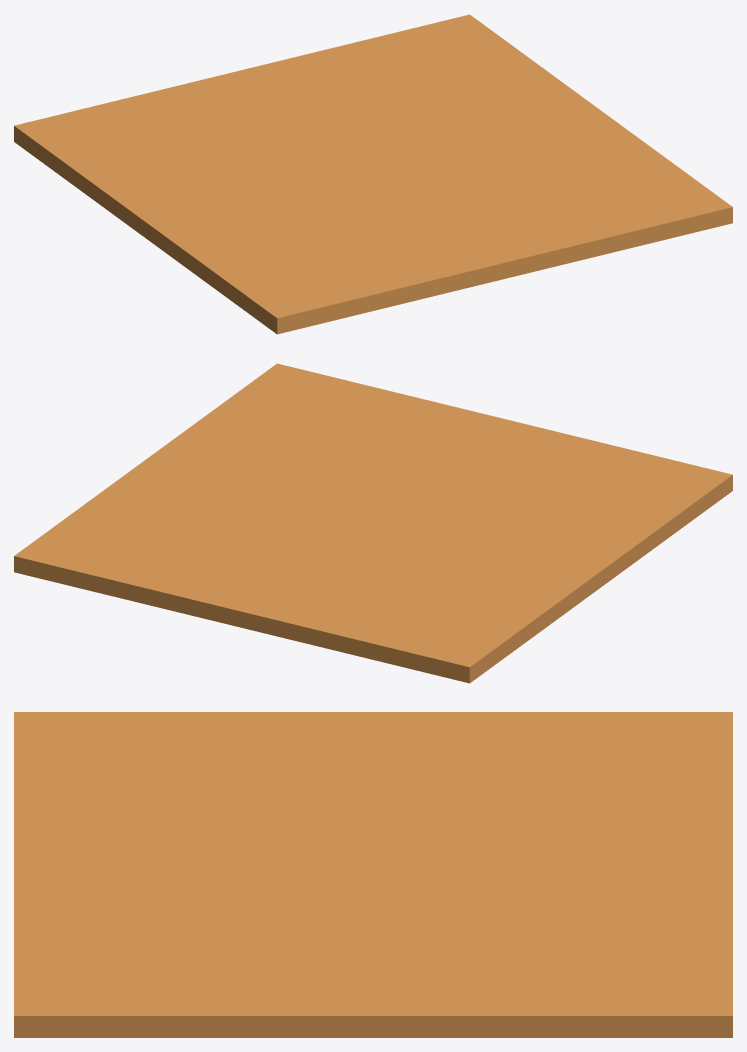
File: Gold_Edges.glb
The picture shows the model from 3 angles, top to bottom: view 1: azimuth 30°, elevation 25°; view 2: azimuth 150°, elevation 25°; view 3: azimuth 270°, elevation 25°; orthographic projection. The views are drawn at different scales.
Visible parts, largest first — view 1: PF_Golden; view 2: PF_Golden; view 3: PF_Golden.
Boxes of the visible parts, <box> form: PF_Golden: <box>14,14,732,334</box>; PF_Golden: <box>14,363,732,683</box>; PF_Golden: <box>14,712,732,1037</box>.
Size of the model in its own units: 1.31 by 0.0446 by 1.31.
Materials: 3 (1 with a texture image).
